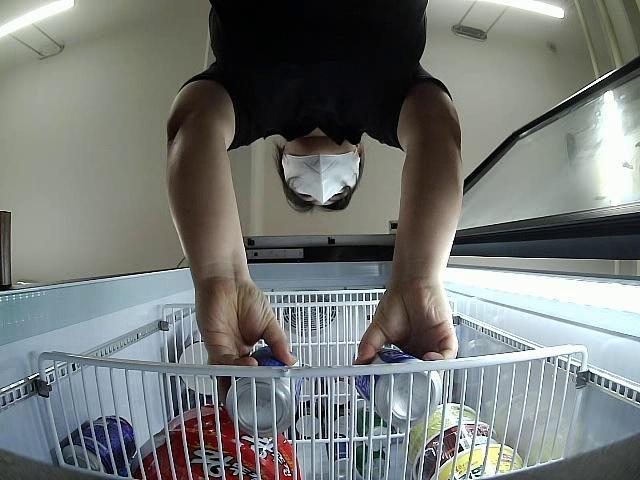13_pocariSweat: (223, 343, 302, 432), (357, 350, 438, 425)
